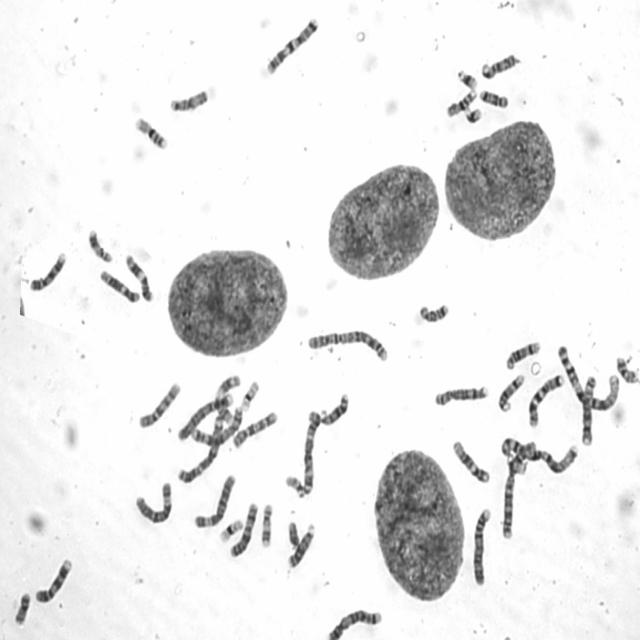A1: (554, 342, 621, 412), (499, 434, 580, 478)
A2: (499, 438, 539, 540), (305, 324, 390, 362)
A3: (175, 411, 225, 486), (300, 406, 323, 496)
B4: (175, 390, 234, 442), (469, 503, 493, 588)
B5: (189, 401, 247, 444), (327, 605, 382, 639)
C10: (136, 380, 181, 430), (230, 407, 279, 450)
C11: (210, 370, 242, 428), (122, 251, 155, 304)
C12: (450, 437, 491, 485), (98, 267, 142, 304)
C6: (192, 470, 236, 530), (132, 477, 174, 526)
C7: (263, 14, 320, 76), (526, 371, 564, 428)
C8: (431, 381, 490, 408), (578, 372, 598, 446)
C9: (33, 555, 73, 605), (28, 248, 67, 293)
D13: (285, 520, 316, 570), (317, 390, 350, 427)
D14: (503, 338, 542, 372), (496, 371, 526, 414)
D15: (168, 85, 210, 113), (481, 53, 518, 81)
E16: (132, 112, 169, 150), (444, 85, 478, 119)
E17: (86, 226, 113, 264), (258, 500, 274, 550)
E18: (416, 299, 450, 324), (477, 86, 510, 110)
F19: (216, 516, 244, 544), (238, 377, 260, 412)
F20: (613, 354, 637, 388), (13, 589, 31, 630)
G21: (455, 66, 479, 90), (462, 104, 483, 125)
G22: (284, 471, 306, 498), (506, 452, 528, 476)
X: (227, 500, 260, 560)
Y: (286, 518, 300, 549)
